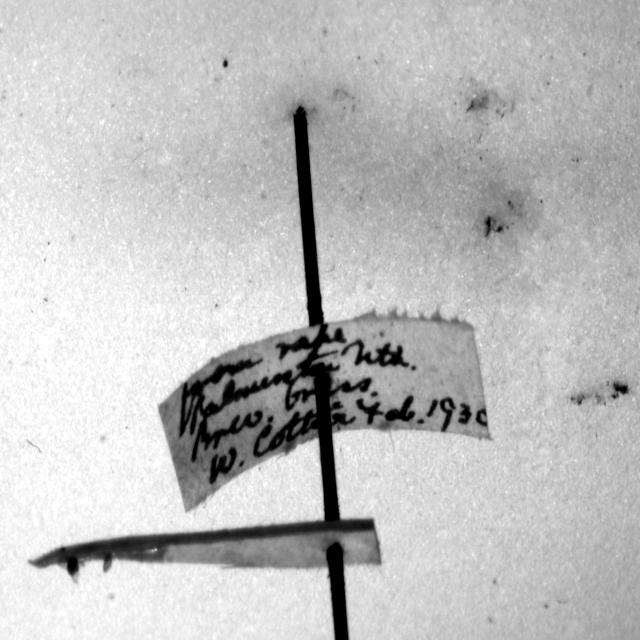hand_label: (159, 315, 490, 510)
